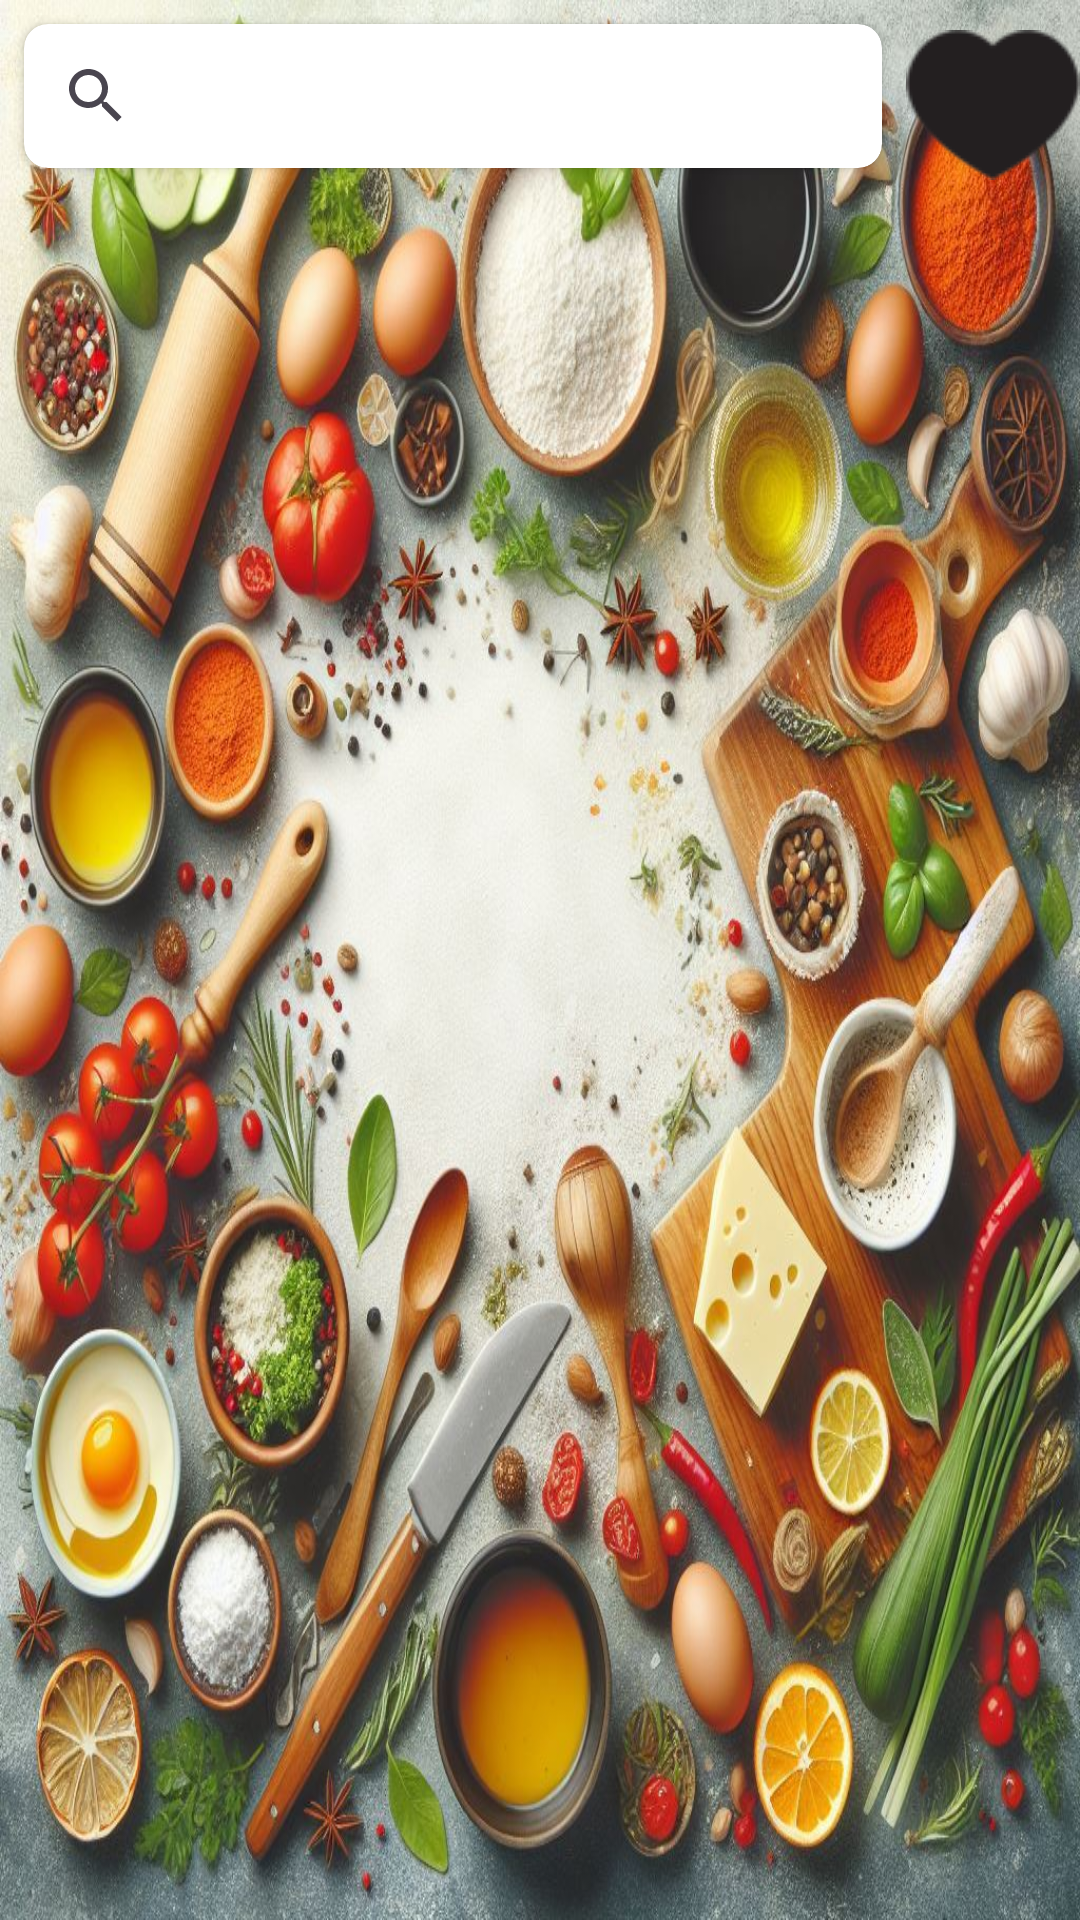

Where to tap for icons on this 1080 × 1920 app screen, as [x,y]:
heart: [993,105]
